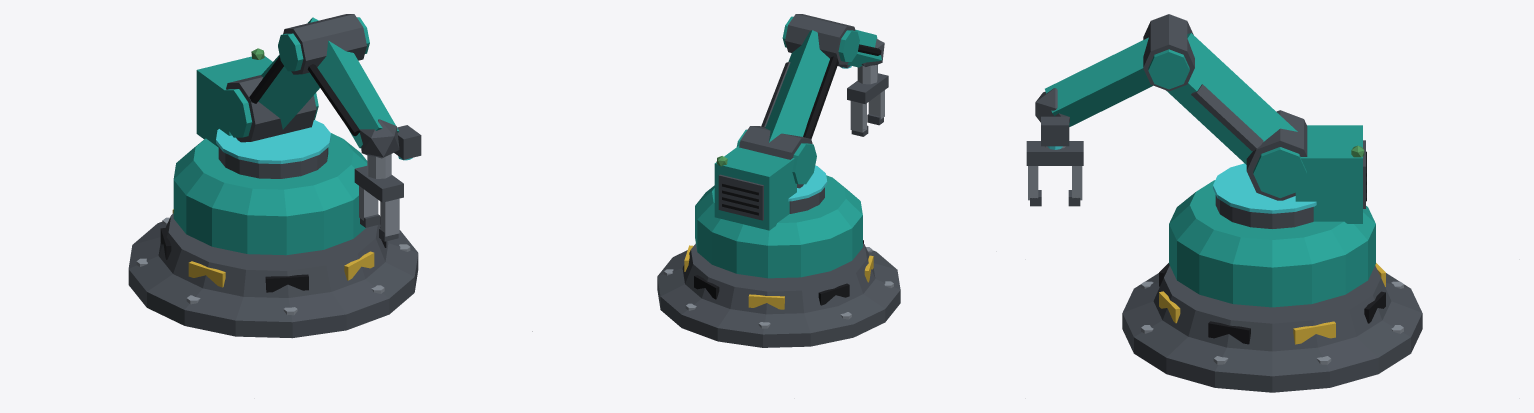
Rendered from bras_t3.glb.
3 renders of one model, left to right at view 1: azimuth 30°, elevation 25°; view 2: azimuth 150°, elevation 25°; view 3: azimuth 270°, elevation 25°, orthographic. The views are drawn at different scales.
Visible parts, largest first — view 1: socle_embase.004, tourelle_corps.004, tourelle_bras_t3.002, tourelle_acier_sombre.006, tourelle_cyan.002, tourelle_acier.006, tourelle_noir.006, socle_jaune.004, socle_noir.006, socle_acier.006; view 2: socle_embase.004, tourelle_corps.004, tourelle_bras_t3.002, tourelle_acier_sombre.006, tourelle_noir.006, tourelle_acier.006, socle_jaune.004, socle_noir.006, tourelle_cyan.002; view 3: socle_embase.004, tourelle_bras_t3.002, tourelle_corps.004, tourelle_acier_sombre.006, tourelle_cyan.002, socle_noir.006, socle_jaune.004, tourelle_acier.006, socle_acier.006.
Boxes of the visible parts, bbox=[...] form: socle_embase.004: bbox=[128, 213, 418, 338]; tourelle_corps.004: bbox=[173, 133, 367, 255]; tourelle_bras_t3.002: bbox=[196, 17, 399, 148]; tourelle_acier_sombre.006: bbox=[218, 14, 421, 241]; tourelle_cyan.002: bbox=[216, 120, 412, 163]; tourelle_acier.006: bbox=[359, 154, 399, 236]; tourelle_noir.006: bbox=[249, 56, 360, 136]; socle_jaune.004: bbox=[172, 209, 374, 287]; socle_noir.006: bbox=[160, 216, 386, 292]; socle_acier.006: bbox=[136, 217, 410, 315]; socle_embase.004: bbox=[657, 243, 900, 347]; tourelle_corps.004: bbox=[695, 175, 862, 278]; tourelle_bras_t3.002: bbox=[714, 16, 881, 230]; tourelle_acier_sombre.006: bbox=[718, 14, 888, 220]; tourelle_noir.006: bbox=[722, 44, 881, 215]; tourelle_acier.006: bbox=[850, 64, 884, 132]; socle_jaune.004: bbox=[684, 245, 873, 309]; socle_noir.006: bbox=[694, 240, 863, 305]; tourelle_cyan.002: bbox=[788, 65, 851, 201]; socle_embase.004: bbox=[1122, 265, 1422, 392]; tourelle_bras_t3.002: bbox=[1045, 33, 1362, 223]; tourelle_corps.004: bbox=[1169, 180, 1375, 307]; tourelle_acier_sombre.006: bbox=[1026, 14, 1365, 228]; tourelle_cyan.002: bbox=[1047, 146, 1316, 213]; socle_noir.006: bbox=[1159, 263, 1385, 344]; socle_jaune.004: bbox=[1159, 263, 1385, 344]; tourelle_acier.006: bbox=[1028, 146, 1082, 200]; socle_acier.006: bbox=[1141, 281, 1403, 364].
Size of the model in its own units: 1 by 1 by 1.5.
